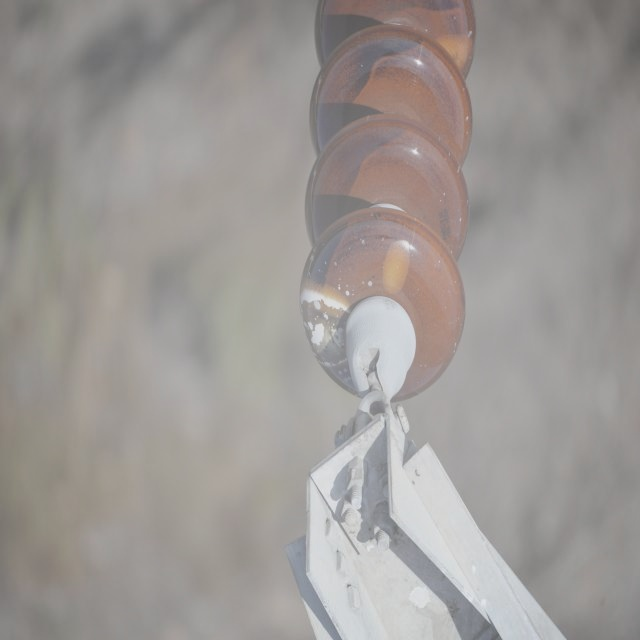insulator: (297, 0, 479, 397)
